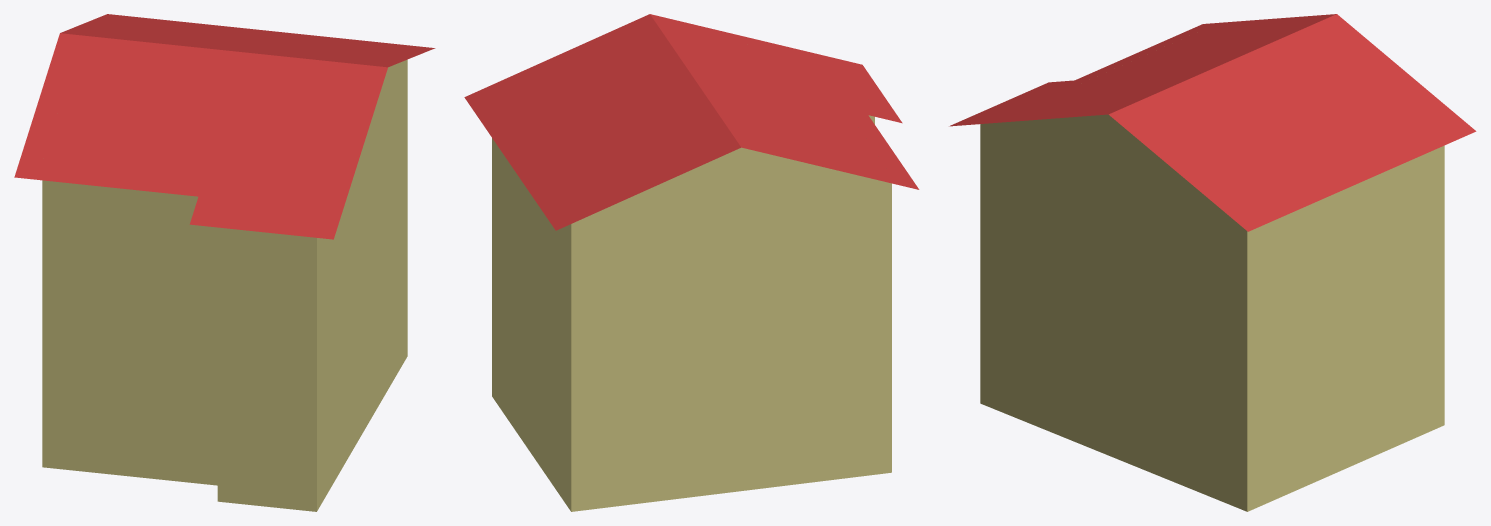
The picture shows the model from 3 angles, left to right: view 1: azimuth 30°, elevation 25°; view 2: azimuth 150°, elevation 25°; view 3: azimuth 270°, elevation 25°; orthographic projection. The views are drawn at different scales.
Parts seen in each view (by area): view 1: group_5, group_3, group_4; view 2: group_5, group_3, group_4; view 3: group_5, group_3, group_4.
Part boxes in pixels (x1,y1,x2,y2): group_5: (42, 59, 407, 511); group_3: (42, 14, 435, 239); group_4: (14, 32, 387, 239); group_5: (492, 115, 891, 511); group_3: (464, 14, 891, 230); group_4: (650, 14, 919, 189); group_5: (980, 114, 1444, 511); group_3: (949, 14, 1476, 231); group_4: (950, 14, 1346, 125).
Bounding box in the file's own units: 16.68 × 17.59 × 13.02.
